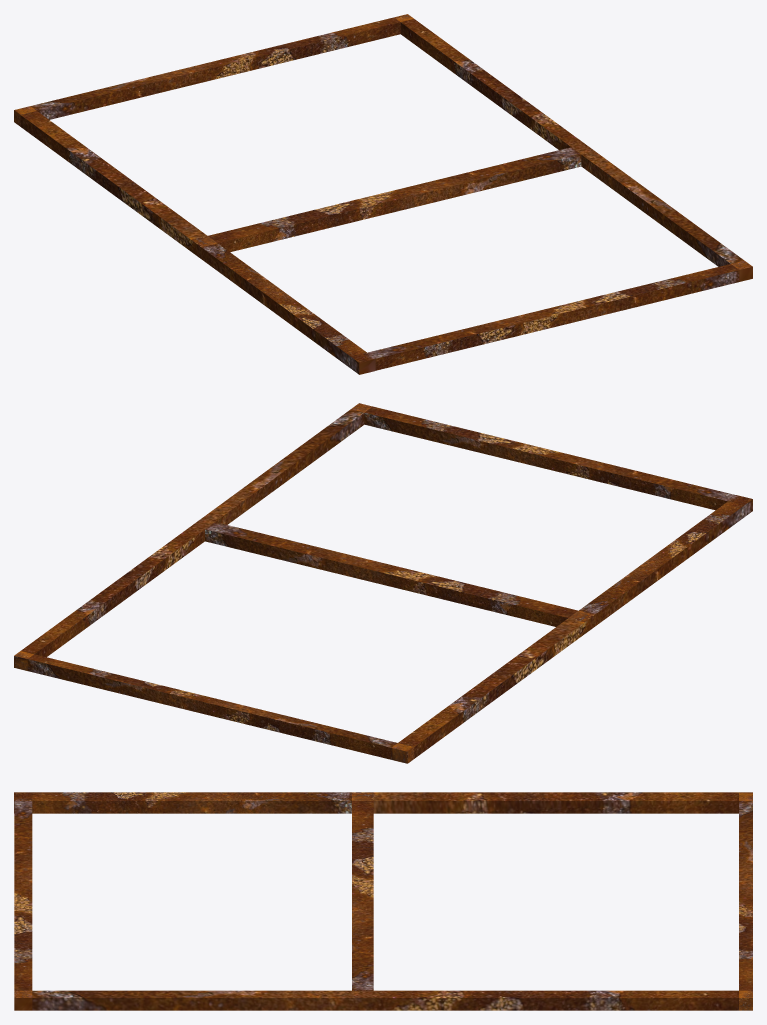
File: FierroGrande3.fbx
3 views of the same model, one above another, from view 1: azimuth 30°, elevation 25°; view 2: azimuth 150°, elevation 25°; view 3: azimuth 270°, elevation 25° (orthographic). The views are drawn at different scales.
Visible parts, largest first — view 1: Escombro Grande.001; view 2: Escombro Grande.001; view 3: Escombro Grande.001.
Boxes of the visible parts, x1,y1,x2,y2 form: Escombro Grande.001: (14,14,752,374); Escombro Grande.001: (14,403,752,763); Escombro Grande.001: (14,792,752,1010).
Size of the model in its own units: 1165 by 33.94 by 1771.
